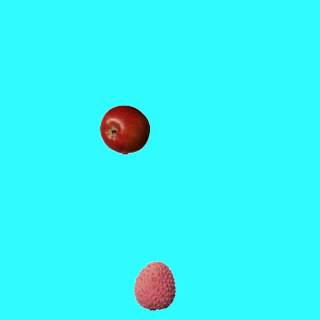Apple Braeburn: (99, 104, 149, 154)
Lychee: (129, 260, 179, 310)
